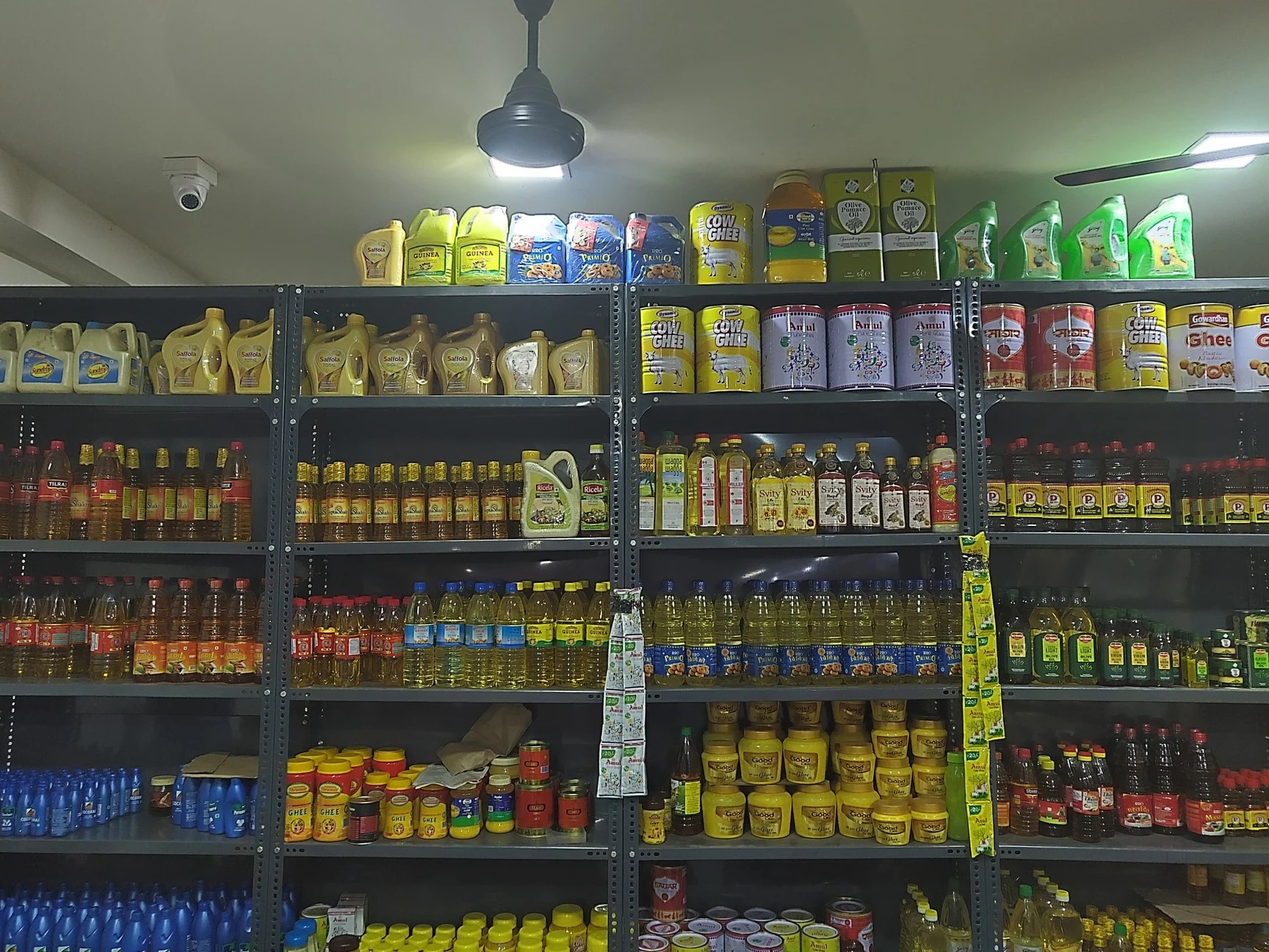parachute: (0, 767, 146, 838), (144, 759, 264, 842)
saffola: (289, 580, 612, 691)
